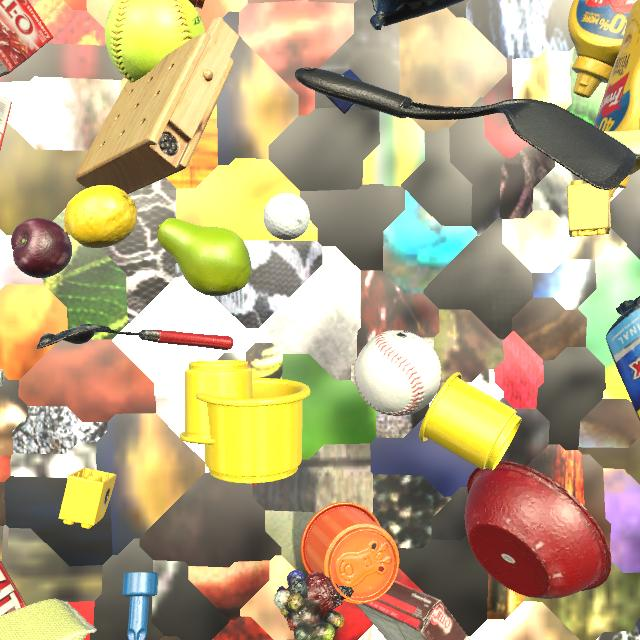ycb_003_cracker_box: (0, 560, 26, 616)
ycb_006_mustard_bottle: (594, 0, 640, 200), (568, 0, 637, 98)
ycb_008_pudding_box: (356, 581, 470, 640)
ycb_009_gelatin_box: (0, 0, 54, 77), (0, 95, 12, 150)
ycb_014_lemon: (64, 185, 137, 248)
ycb_016_pear: (157, 218, 252, 296)
ycb_017_orange: (639, 123, 640, 129)
ycb_018_plum: (11, 218, 72, 278)
